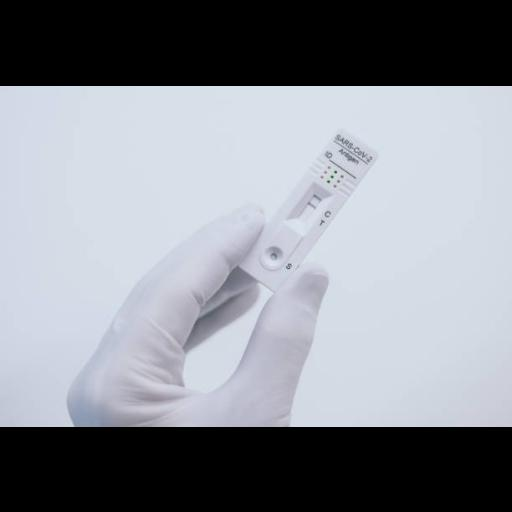Neg: (238, 125, 379, 295)
